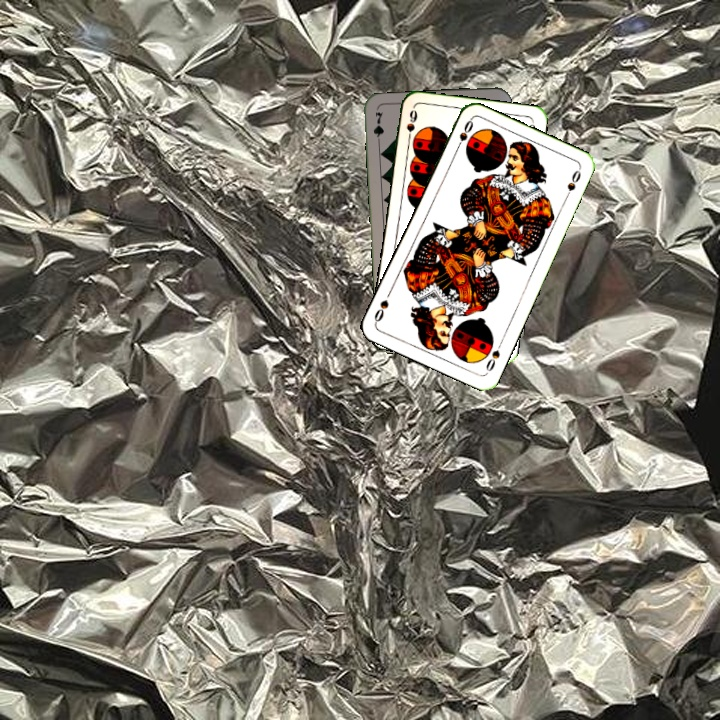G7: (370, 108, 386, 149)
S9: (402, 105, 420, 146)
SO: (451, 116, 476, 154), (482, 337, 505, 375)
